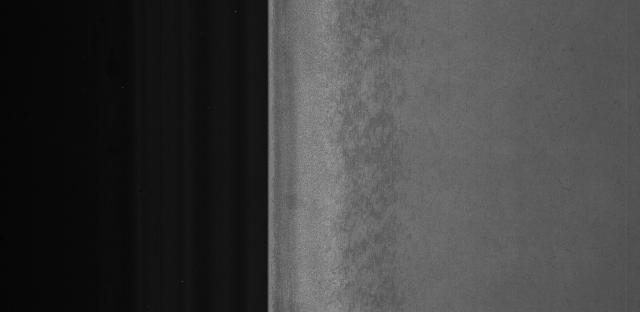silk_spot: (325, 27, 410, 274)
